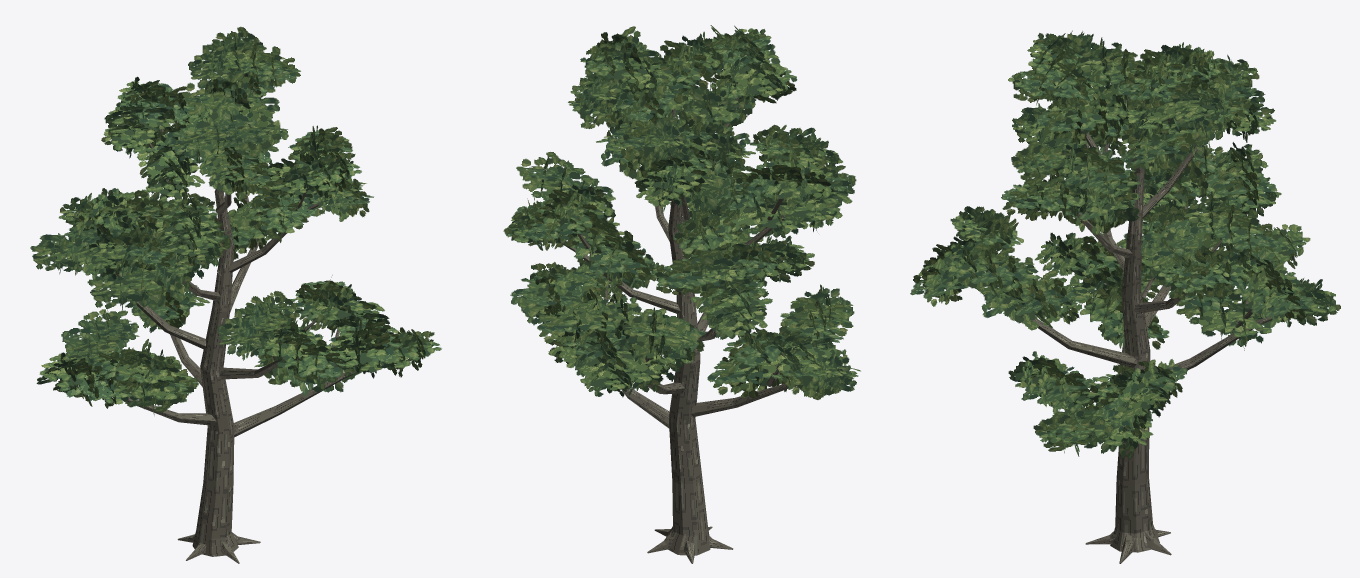
The model's file is alder_tree.glb.
3 renders of one model, left to right at view 1: azimuth 30°, elevation 25°; view 2: azimuth 150°, elevation 25°; view 3: azimuth 270°, elevation 25°, orthographic. The views are drawn at different scales.
Parts seen in each view (by area): view 1: AlderTree; view 2: AlderTree; view 3: AlderTree.
Part boxes in pixels (bbox=[...]): AlderTree: bbox=[30, 26, 441, 563]; AlderTree: bbox=[503, 25, 860, 563]; AlderTree: bbox=[910, 30, 1340, 563].
Bounding box in the file's own units: 3.42 × 4.37 × 3.33.
Materials: 2 (2 with a texture image).
